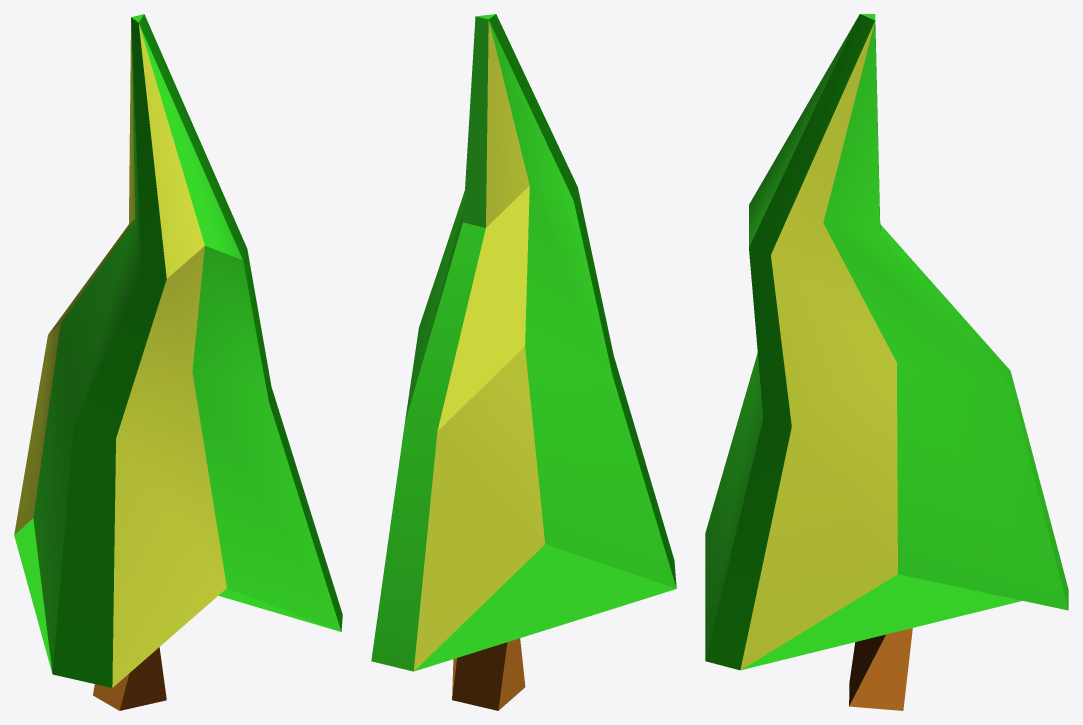
The model's file is trees2.fbx.
The picture shows the model from 3 angles, left to right: view 1: azimuth 30°, elevation 25°; view 2: azimuth 150°, elevation 25°; view 3: azimuth 270°, elevation 25°; orthographic projection.
Parts seen in each view (by area): view 1: Cube.005, Cube.004; view 2: Cube.005, Cube.004; view 3: Cube.005, Cube.004.
Part boxes in pixels (x1,y1,x2,y2): Cube.005: [14, 14, 342, 687]; Cube.004: [93, 647, 166, 710]; Cube.005: [371, 14, 676, 671]; Cube.004: [452, 638, 525, 710]; Cube.005: [705, 14, 1068, 670]; Cube.004: [849, 628, 912, 710].
Size of the model in its own units: 1185 by 2775 by 1332.
